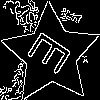E: (26, 29, 81, 82)
